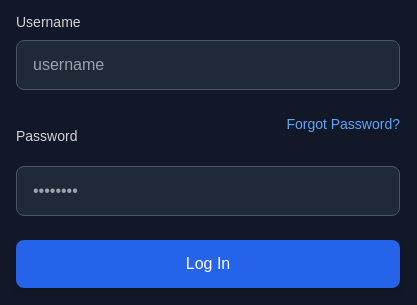
LoginForm › shows loading state when submitting
Type "testuser" into the field labelled "Username".
click(208, 65); type("testuser")  # box [16,40,400,90]
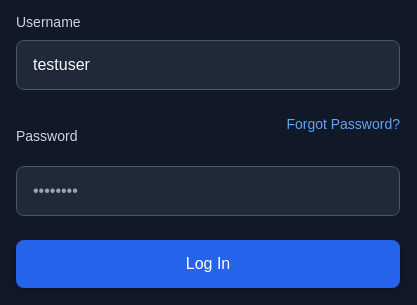
Type "password123" into the password field labelled "Password".
click(208, 191); type("password123")  # box [16,166,400,216]
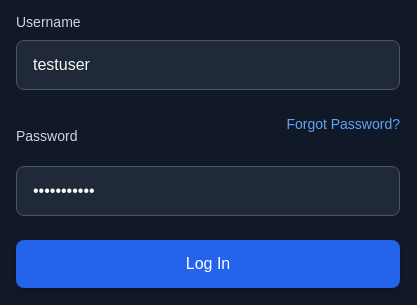
Click the button "Log In".
click(208, 264)  # box [16,240,400,288]
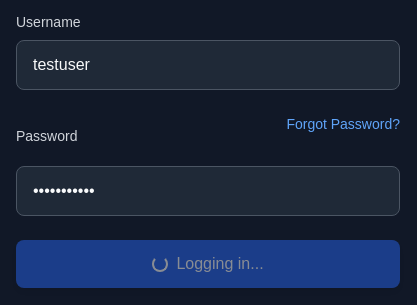
Expected: the text "Logging in..." is shown, [152,255,264,272]
Expected: the button named "log in" is disabled, [16,240,400,288]
